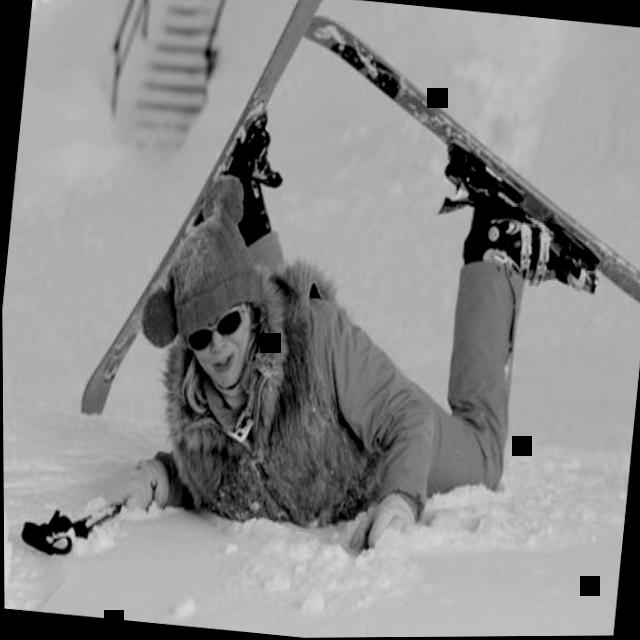Fall-Detected: (49, 64, 637, 605)
